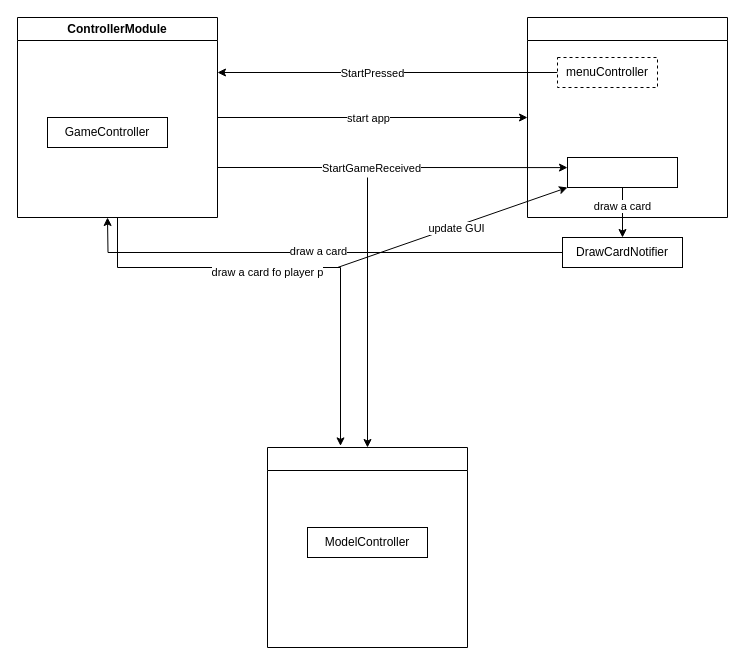
This 745x665 diagram has some shape labels left out. Each missing label, with the box of its shape:
gameView: (566, 156, 678, 188)
ModelModule: (266, 446, 468, 648)
ViewModule: (526, 16, 728, 218)
